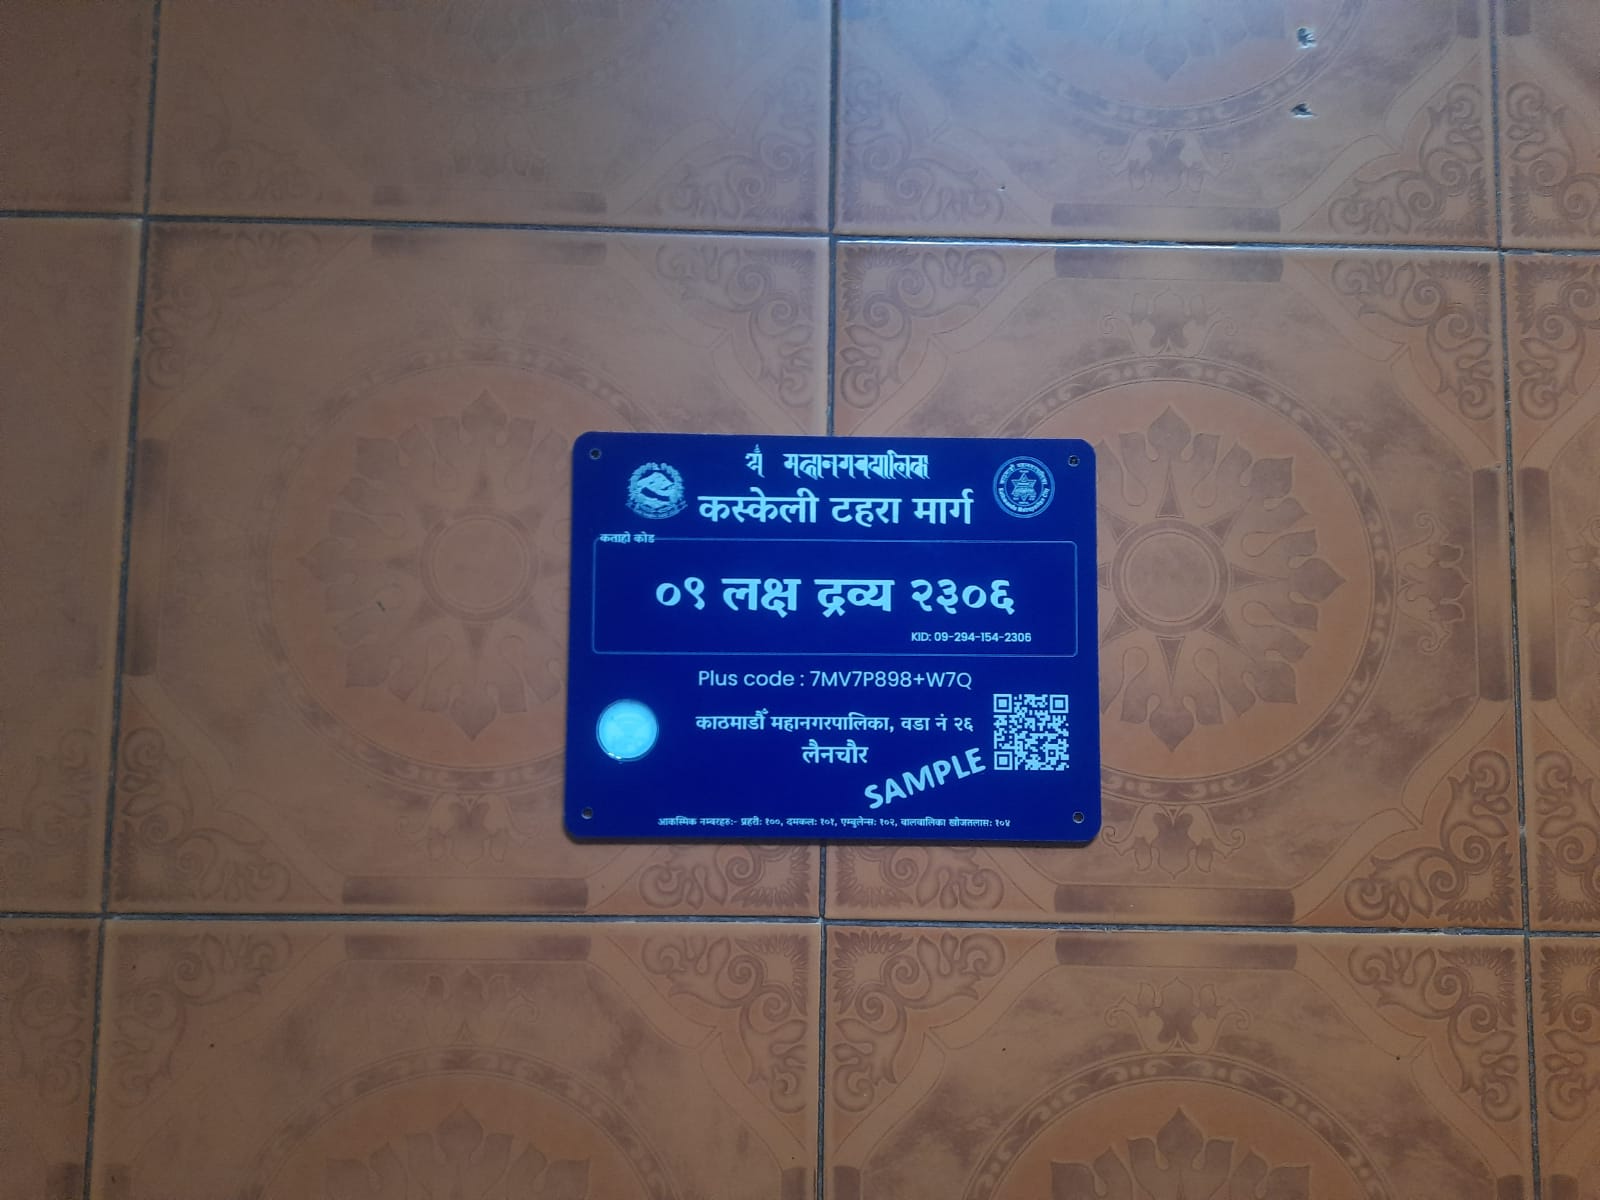Plate: (560, 430, 1108, 853)
